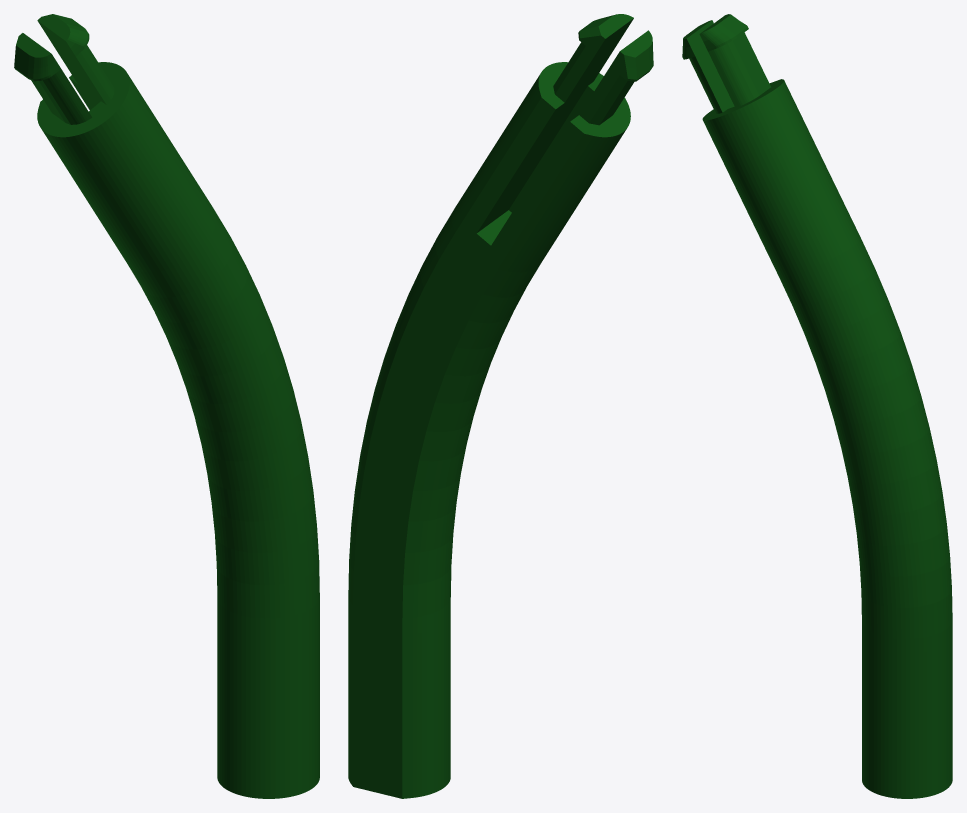
File: stem_1A_30L.glb
The picture shows the model from 3 angles, left to right: view 1: azimuth 30°, elevation 25°; view 2: azimuth 150°, elevation 25°; view 3: azimuth 330°, elevation 25°; orthographic projection. The views are drawn at different scales.
Visible parts, largest first — view 1: stem_1A_30L; view 2: stem_1A_30L; view 3: stem_1A_30L.
Part boxes in pixels (box(x1,y1,x2,y2)): stem_1A_30L: box(14, 14, 319, 798); stem_1A_30L: box(348, 14, 653, 798); stem_1A_30L: box(682, 14, 952, 798).
Size of the model in its own units: 0.0236 by 0.0626 by 0.00666.
